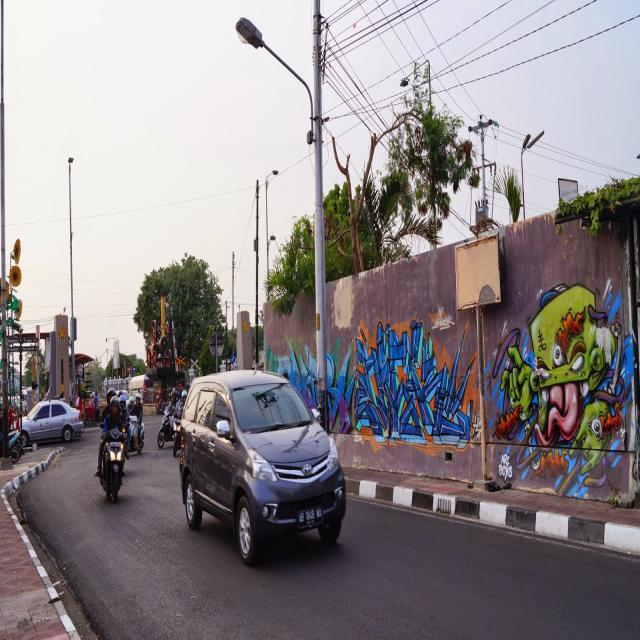-: (492, 280, 636, 496), (350, 320, 474, 458), (262, 334, 350, 433)
